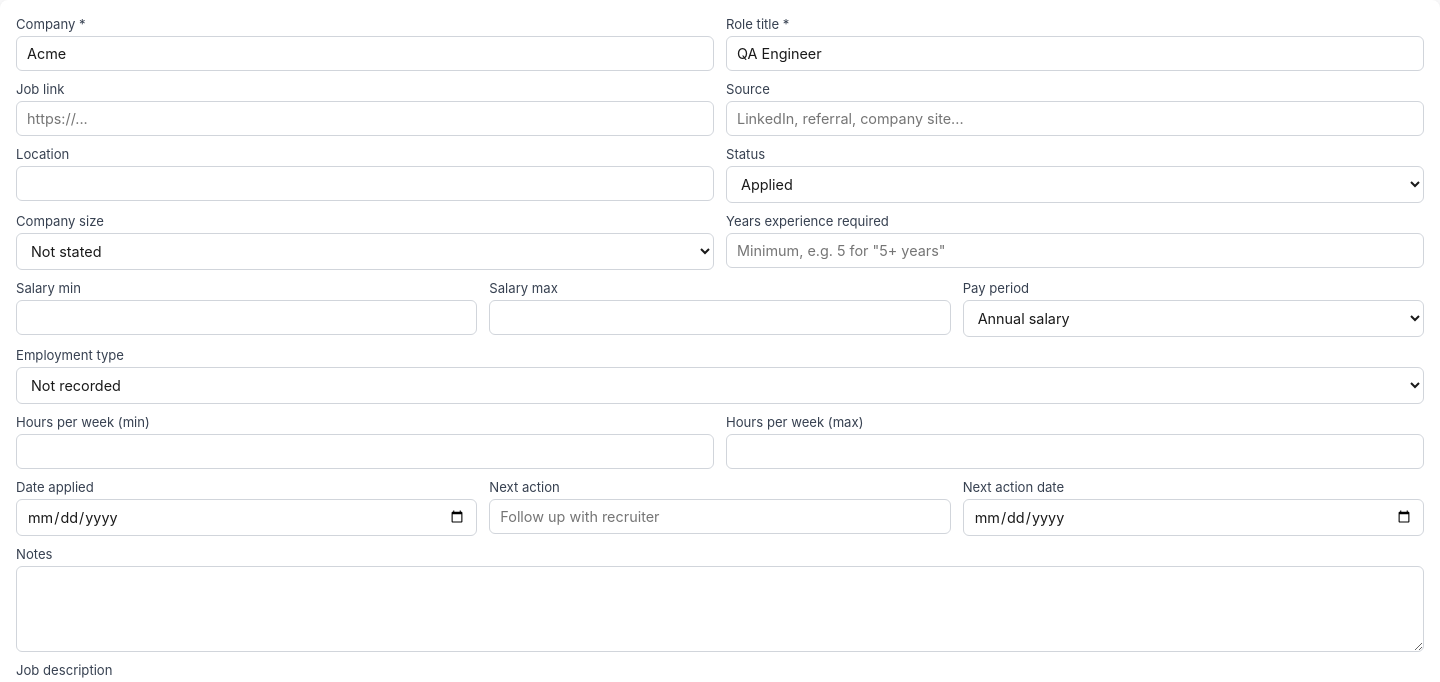
Test case: the job posting link on the detail screen (KAN-45) › appears as soon as a pasted URL is valid, without saving first
This screenshot has width=1440, height=682.
Type "https://example.com/x" into the field labelled "Job link" at (365, 118), box [16, 101, 714, 136]
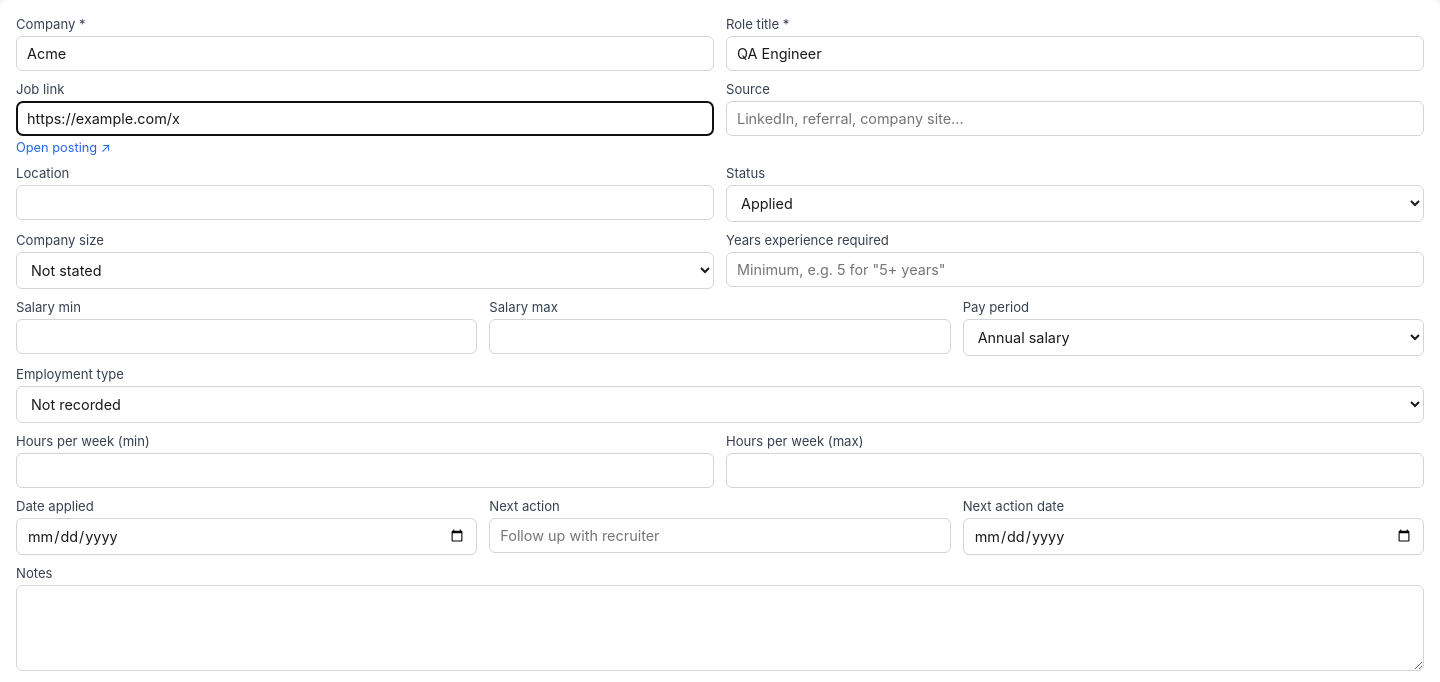
Check: the link "Open posting ↗" is shown, box [16, 140, 111, 155]
